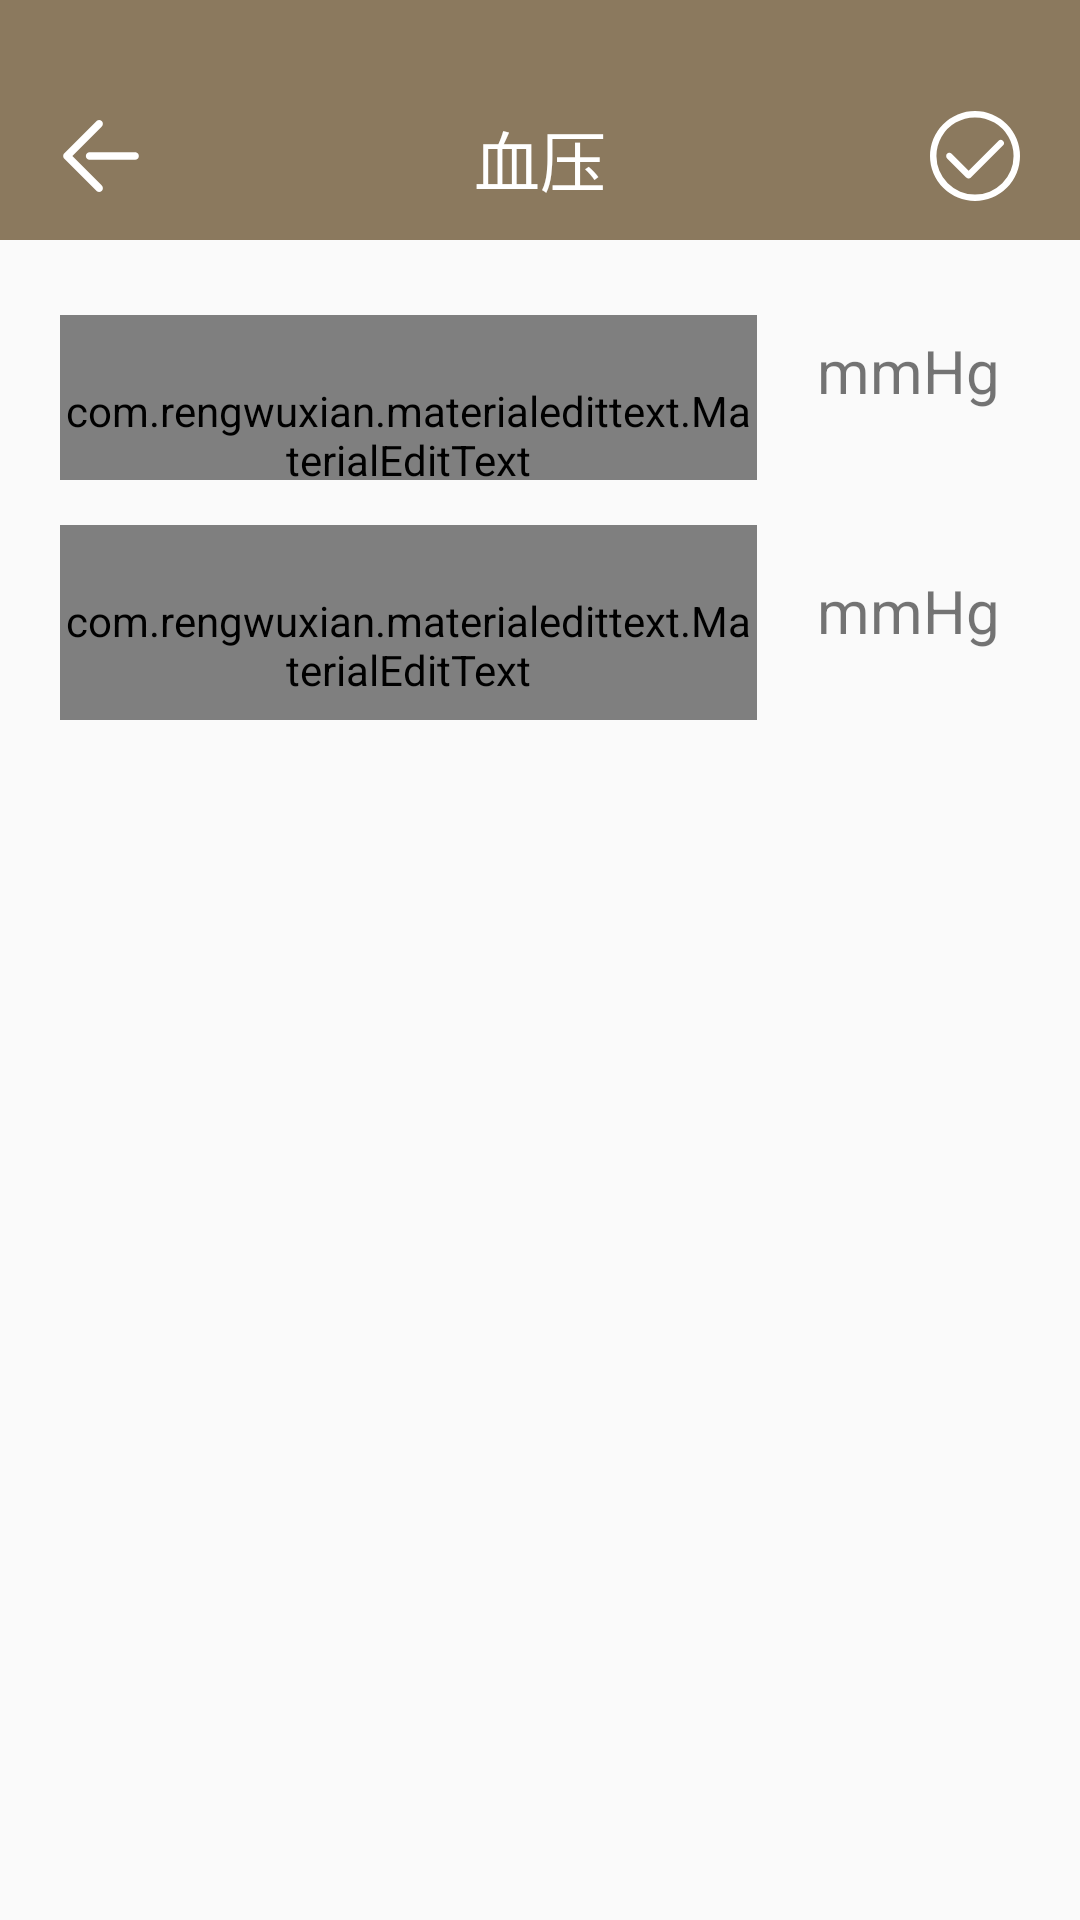

Named icons in this screenshot (1080w x 1920h) and their centers, point (x, y):
back: point (101, 156)
save: point (975, 156)
